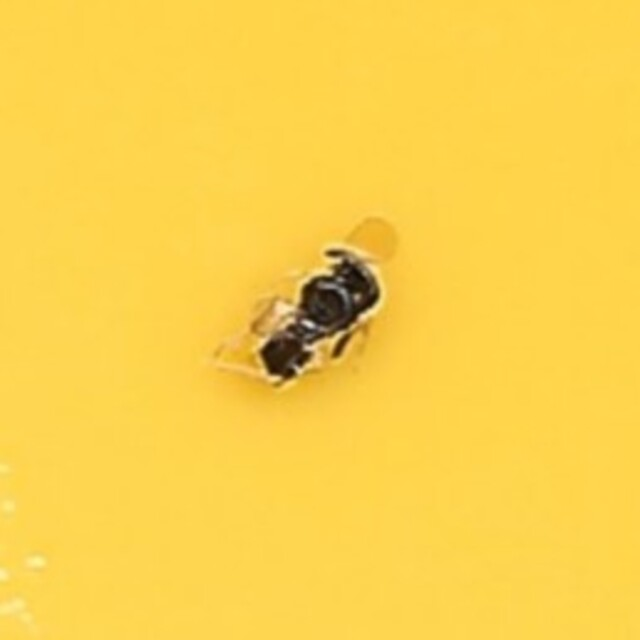Hymenoptera: (248, 249, 392, 391)
